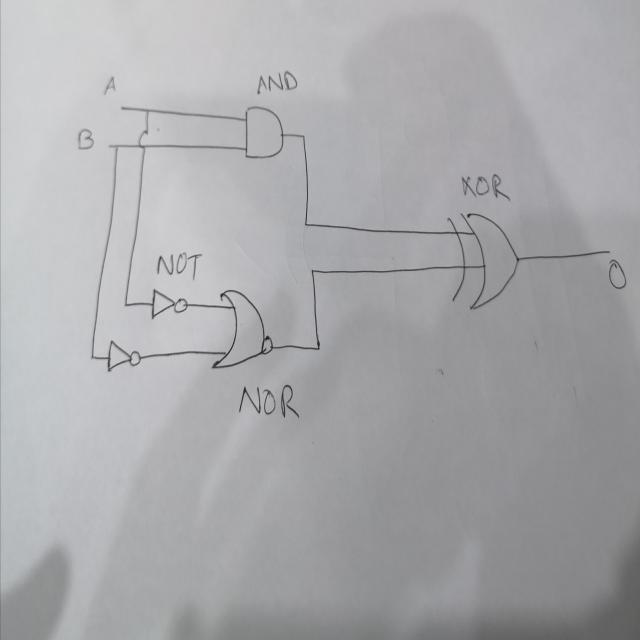crossover: (137, 127, 150, 151)
junction: (311, 334, 323, 358), (299, 128, 307, 144), (309, 262, 317, 276), (89, 349, 96, 363), (302, 218, 309, 231), (144, 104, 151, 117), (114, 141, 120, 153), (123, 299, 129, 310)
terminal: (117, 100, 126, 115), (604, 243, 613, 258), (107, 138, 112, 150)
text: (236, 380, 300, 421), (456, 169, 510, 203), (154, 248, 203, 284), (256, 68, 299, 95), (608, 256, 627, 292), (76, 126, 94, 151), (102, 74, 116, 96)
